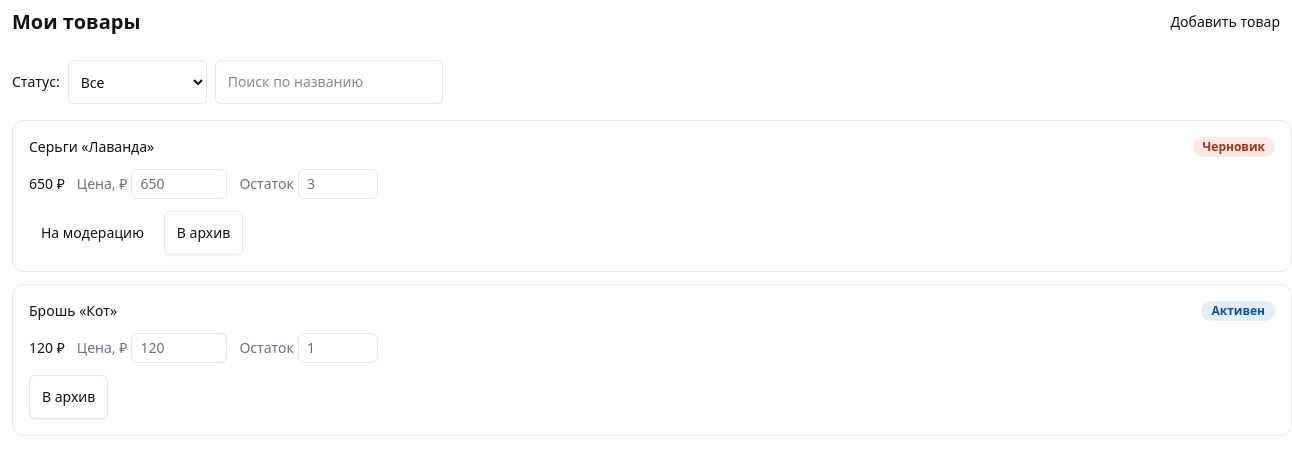
Test: SellerProductsPage › фильтрует список по статусу и поисковому слову
The width and height of the screenshot is (1292, 453).
Expected: the link "Серьги «Лаванда»" is shown, [29,137,154,157]
Select "Активен" in the dropdown: (137, 82) [68,60,207,104]
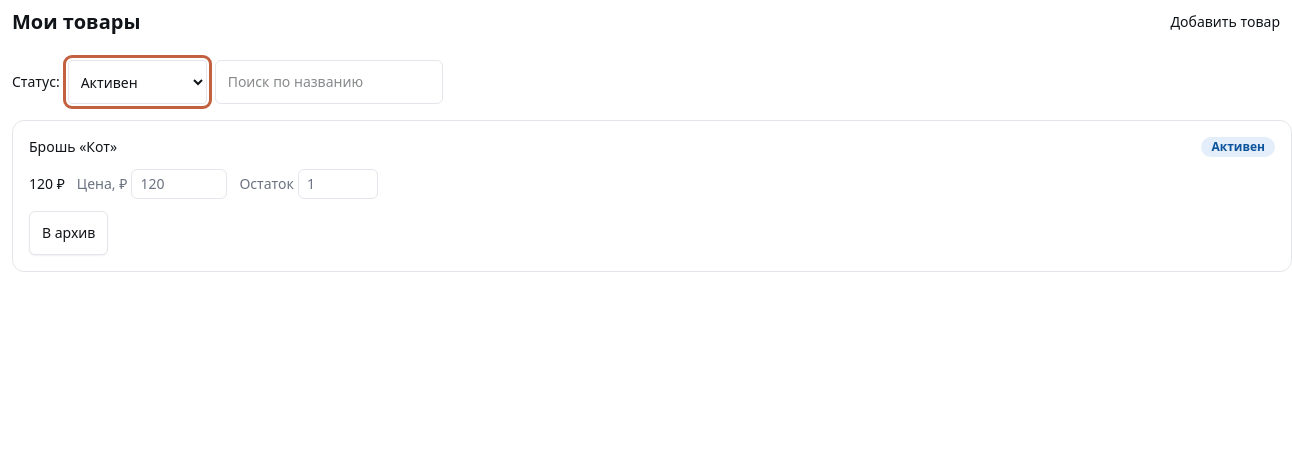
Expected: the link "Брошь «Кот»" is shown, [29,137,117,157]
Expected: the link "Серьги «Лаванда»" is gone
Select "Все" in the dropdown: (137, 82) [68,60,207,104]
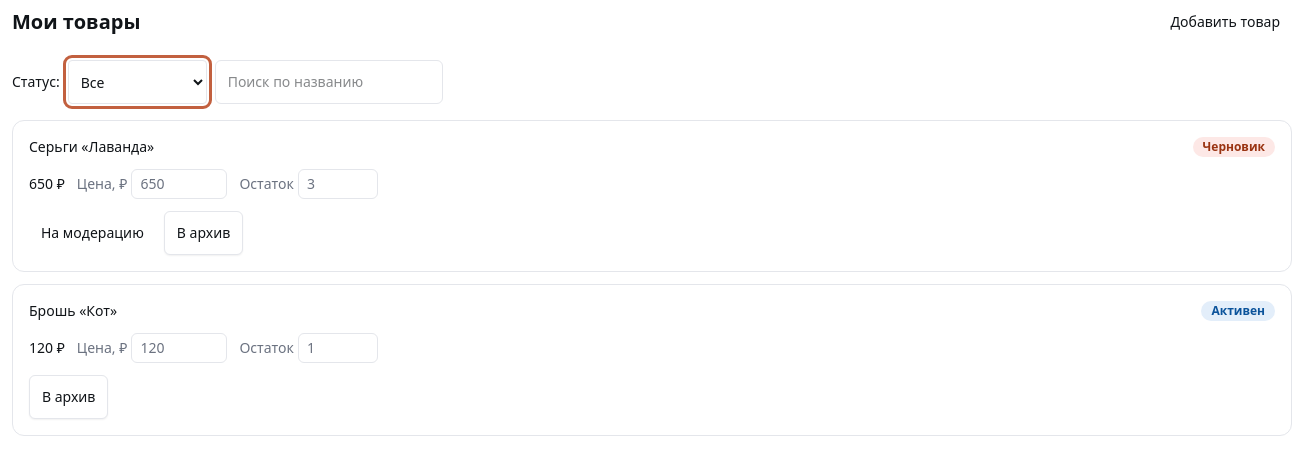
In the search field labelled "Поиск по названию": (329, 82) [215,60,443,104], type "брошь"
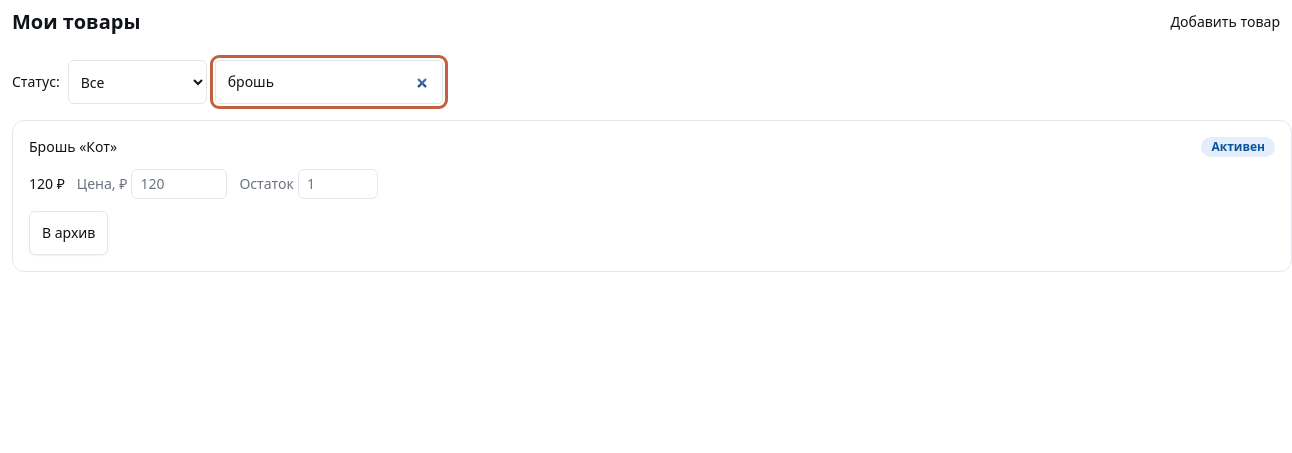
Expected: the link "Брошь «Кот»" is shown, [29,137,117,157]
Expected: the link "Серьги «Лаванда»" is gone
